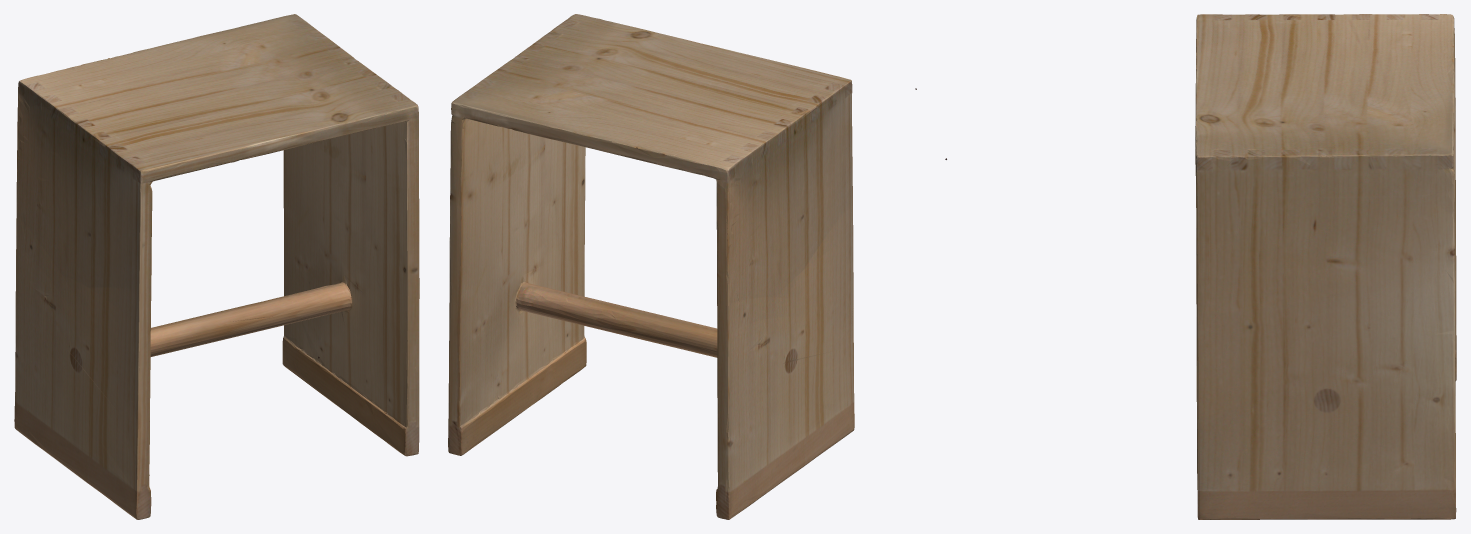
The model's file is BEFABD8D-0AD4-804A-912C-0758C51C88E9_2k.glb.
3 renders of one model, left to right at view 1: azimuth 30°, elevation 25°; view 2: azimuth 150°, elevation 25°; view 3: azimuth 270°, elevation 25°, orthographic. The views are drawn at different scales.
Parts seen in each view (by area): view 1: Ulmer Hocker_4k_2k; view 2: Ulmer Hocker_4k_2k; view 3: Ulmer Hocker_4k_2k.
Boxes of the visible parts, x1,y1,x2,y2 form: Ulmer Hocker_4k_2k: (14,14,419,519); Ulmer Hocker_4k_2k: (448,14,916,519); Ulmer Hocker_4k_2k: (945,14,1456,519).
Size of the model in its own units: 0.3942 by 0.4682 by 0.5934.
Materials: 1 (1 with a texture image).
